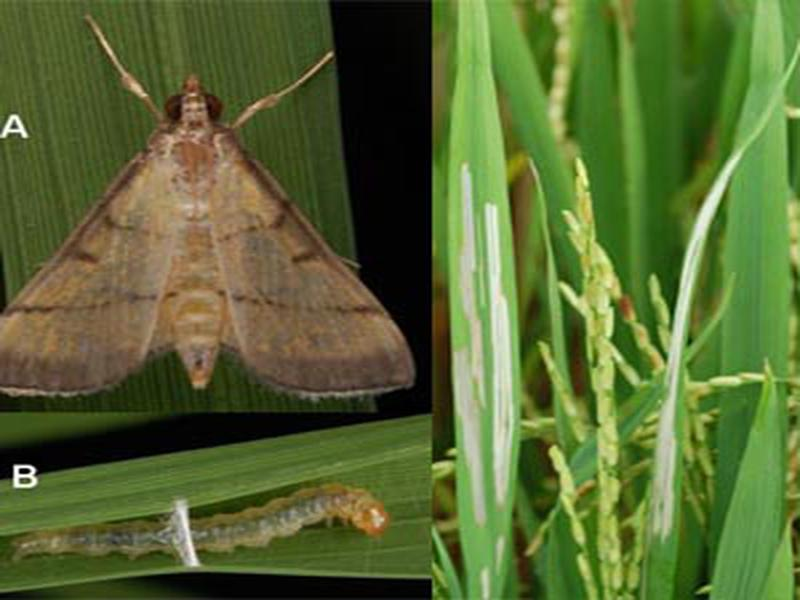Leaf_folder: (50, 84, 419, 407), (26, 482, 397, 584)
